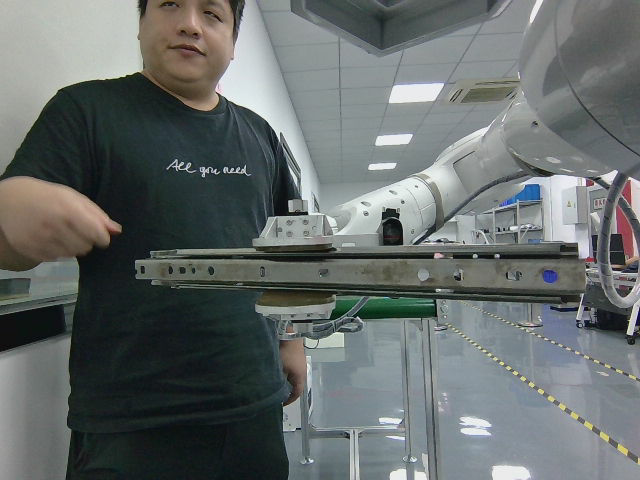right: (137, 245, 586, 296)
